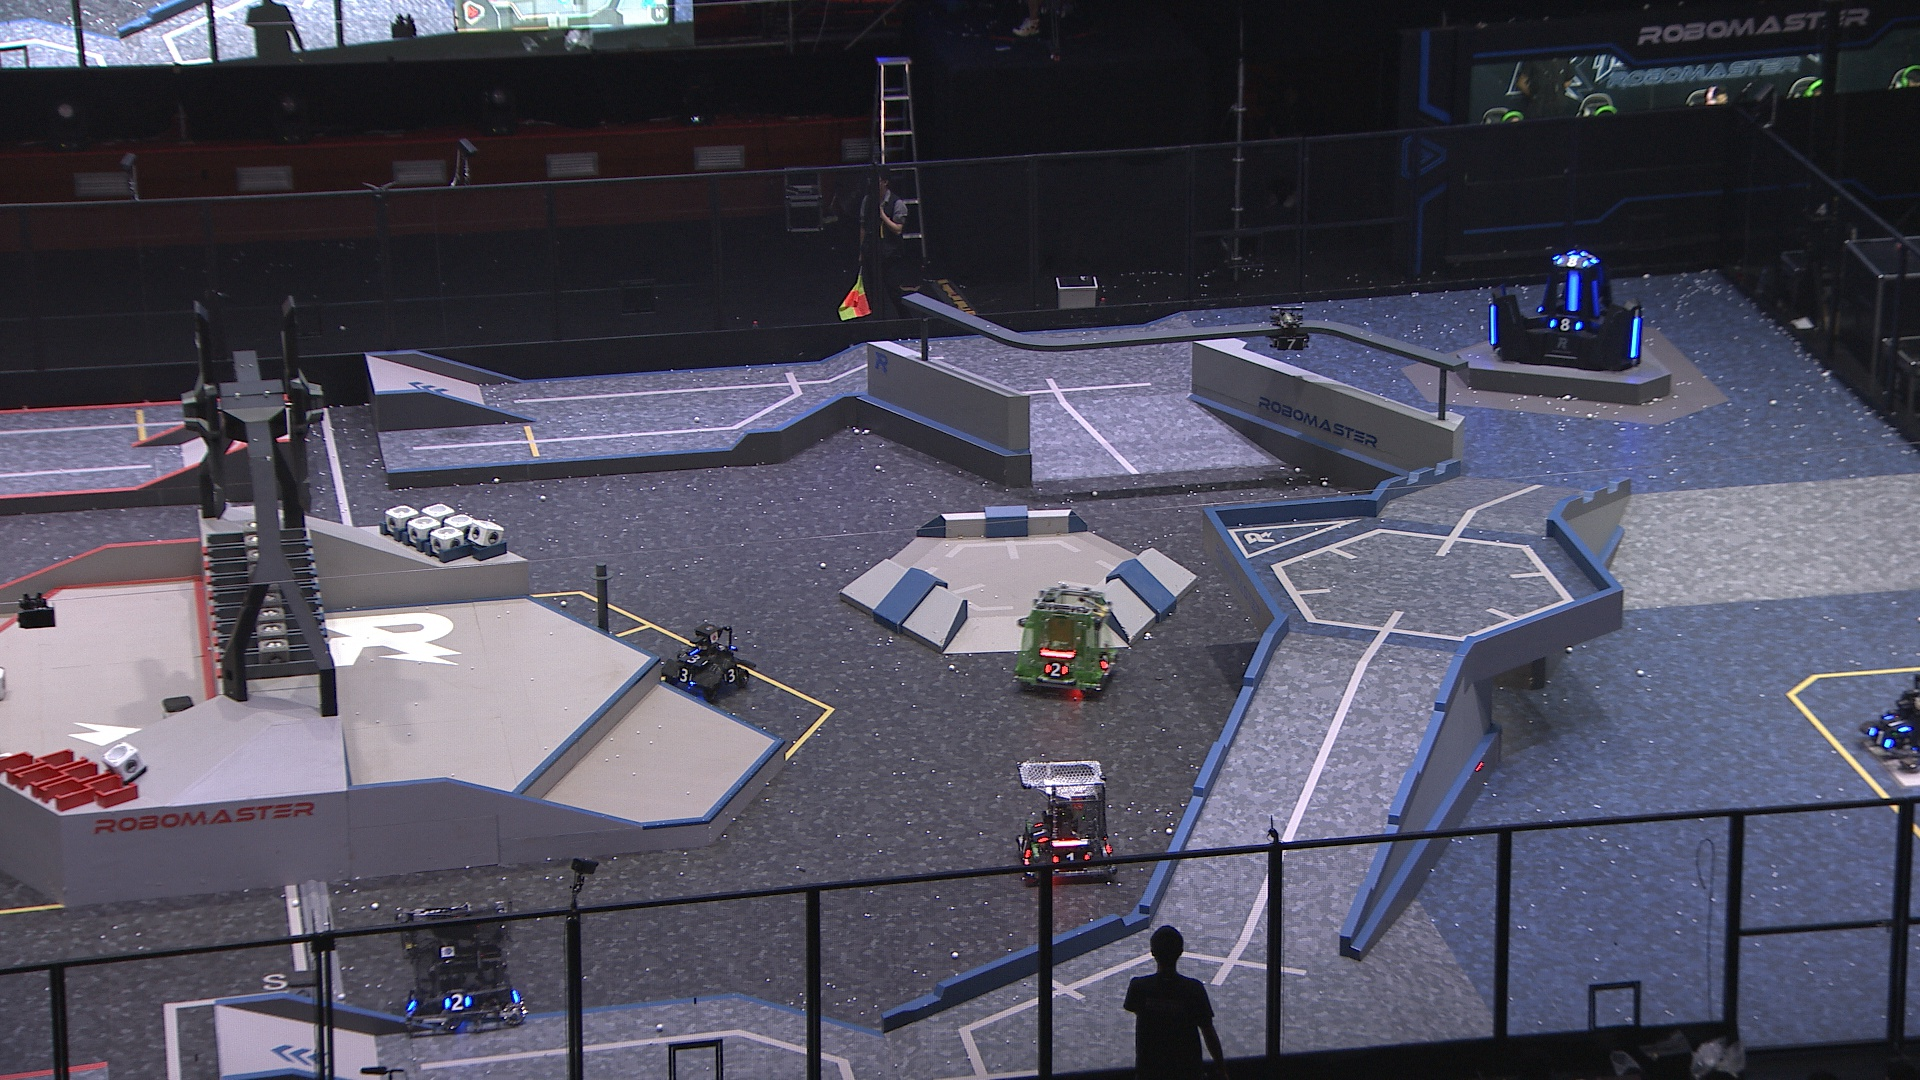armor: (1866, 723, 1894, 750), (1883, 713, 1916, 736), (1629, 314, 1644, 360), (443, 992, 473, 1011), (1567, 273, 1581, 311), (1273, 338, 1309, 352), (1590, 278, 1604, 318), (1548, 318, 1581, 334), (1048, 851, 1091, 862), (1030, 820, 1050, 845), (1487, 305, 1499, 345), (1556, 255, 1592, 268), (1044, 659, 1069, 678), (678, 651, 708, 666), (1015, 837, 1035, 858), (723, 666, 741, 683), (1098, 651, 1114, 670), (675, 669, 694, 683)
base: (1484, 249, 1646, 372)
car: (394, 897, 527, 1033), (1007, 578, 1124, 700), (1011, 757, 1120, 884), (657, 618, 752, 704), (1861, 669, 1920, 773)
watcher: (1263, 301, 1313, 353)
